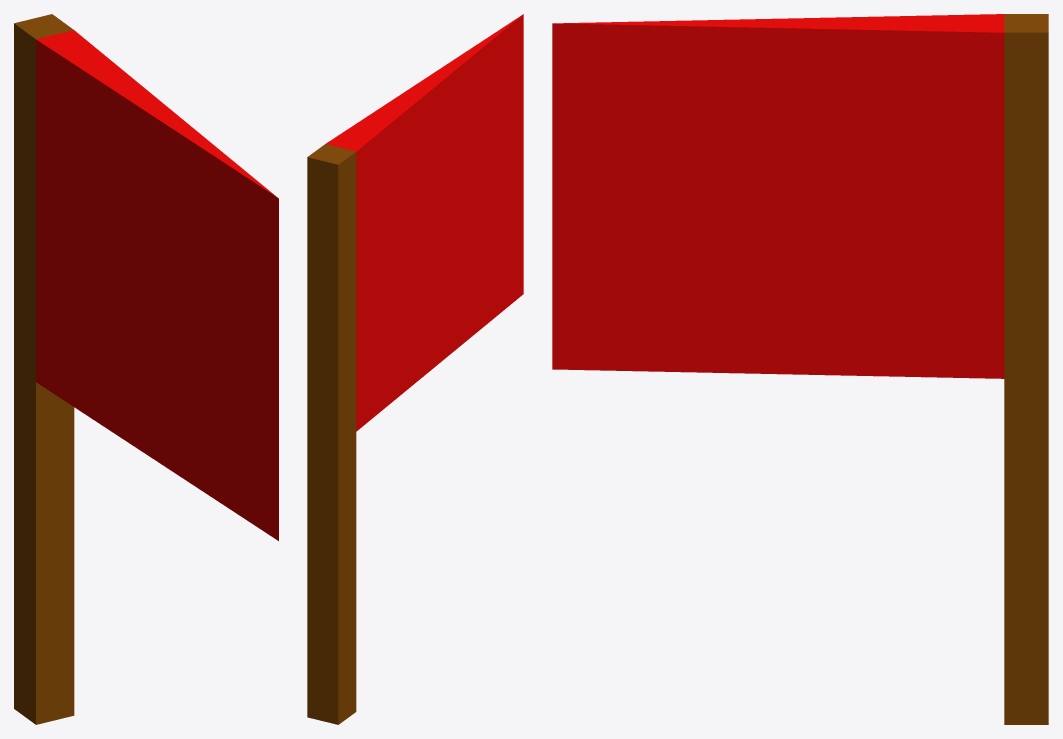
File: Flag01.glb
The picture shows the model from 3 angles, left to right: view 1: azimuth 30°, elevation 25°; view 2: azimuth 150°, elevation 25°; view 3: azimuth 270°, elevation 25°; orthographic projection. The views are drawn at different scales.
Visible parts, largest first — view 1: Flag; view 2: Flag; view 3: Flag.
Part boxes in pixels (left/top/right/bottom): Flag: left=14, top=14, right=278, bottom=724; Flag: left=307, top=14, right=523, bottom=724; Flag: left=552, top=14, right=1048, bottom=724.
Bounding box in the file's own units: 0.1165 × 2 × 1.3.
1 material, 1 textured.
